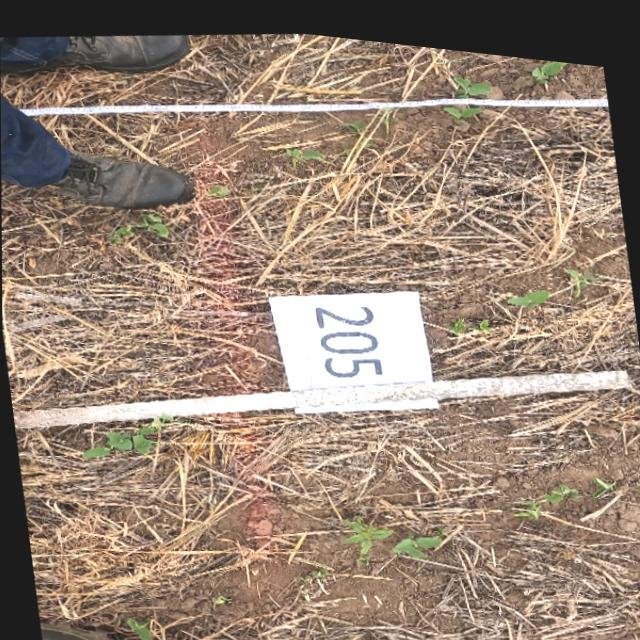caruru_weed: (342, 508, 391, 548), (126, 614, 150, 638)
soy_plant: (82, 414, 165, 456), (513, 469, 576, 507), (109, 208, 167, 237), (391, 526, 440, 548), (453, 65, 490, 86), (505, 276, 547, 293), (533, 48, 566, 68), (443, 95, 481, 111), (286, 140, 323, 156), (207, 179, 227, 191), (471, 308, 486, 318), (350, 114, 363, 125), (450, 308, 461, 320)
